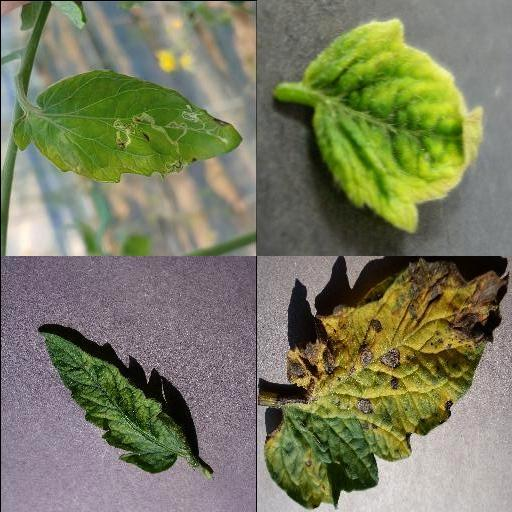Early Blight: (262, 261, 508, 509)
Leaf Miner: (12, 69, 242, 183)
Mosaic Virus: (34, 329, 188, 473)
Yellow Leaf Curl Virus: (300, 18, 482, 234)
